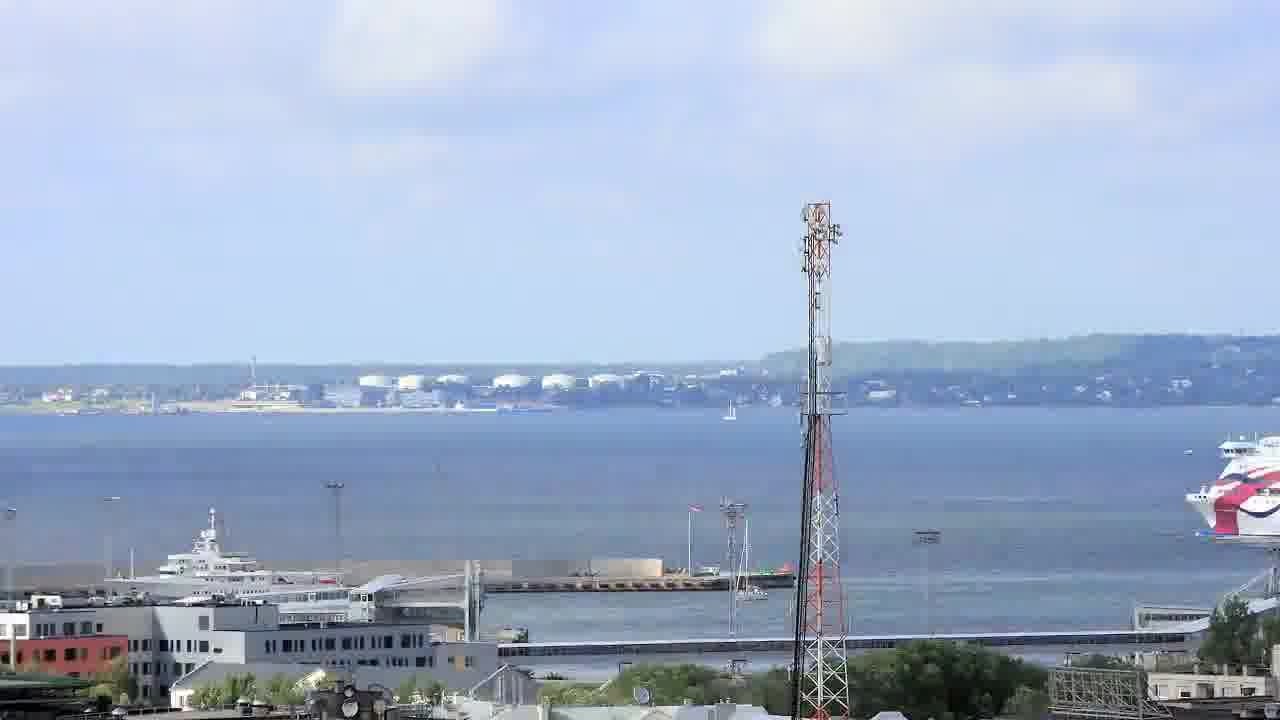type-0: (726, 519, 777, 615)
type-3: (96, 508, 381, 605), (1185, 414, 1280, 554)
